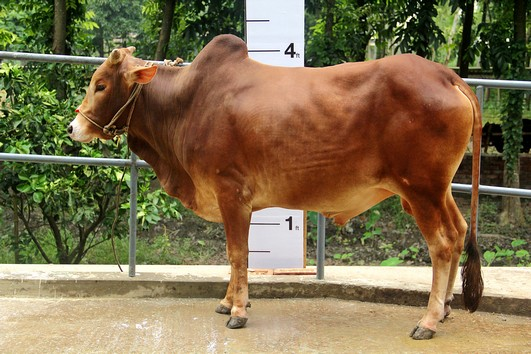cow: (65, 29, 488, 341)
